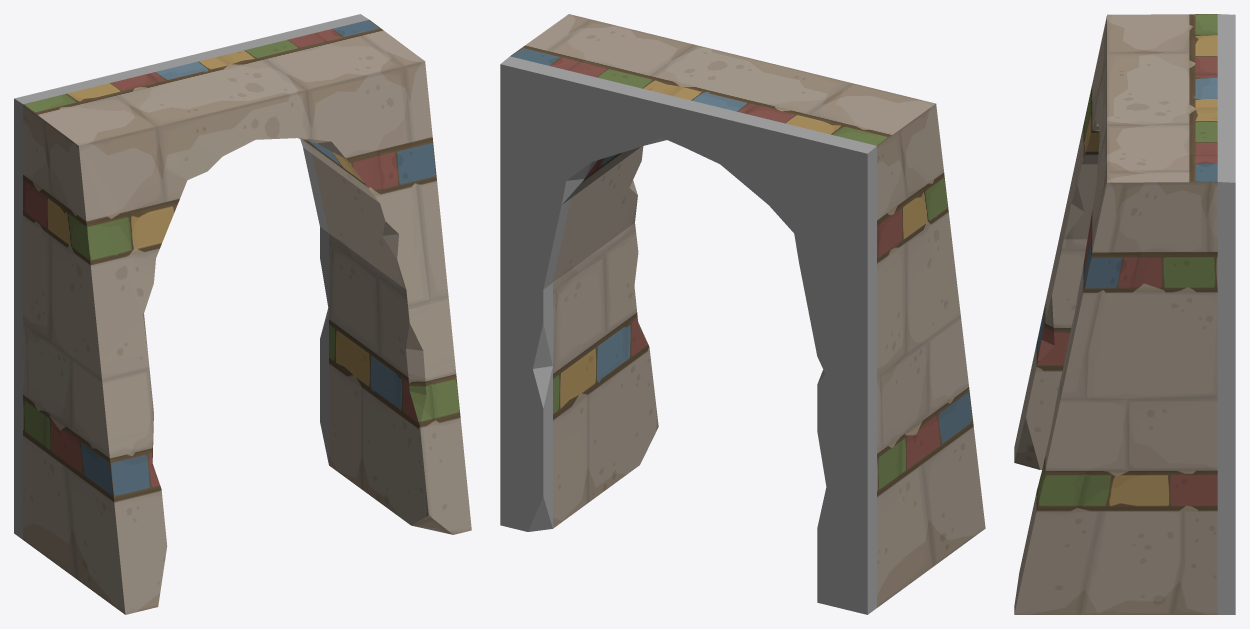
Rendered from SM_Bld_Archway_Temple_Ground_01.fbx.
3 renders of one model, left to right at view 1: azimuth 30°, elevation 25°; view 2: azimuth 150°, elevation 25°; view 3: azimuth 270°, elevation 25°, orthographic. The views are drawn at different scales.
Parts seen in each view (by area): view 1: SM_Bld_Archway_Temple_Ground_01; view 2: SM_Bld_Archway_Temple_Ground_01; view 3: SM_Bld_Archway_Temple_Ground_01.
Boxes of the visible parts, x1,y1,x2,y2 form: SM_Bld_Archway_Temple_Ground_01: (14, 14, 471, 614); SM_Bld_Archway_Temple_Ground_01: (500, 14, 985, 614); SM_Bld_Archway_Temple_Ground_01: (1014, 14, 1235, 614).
Bounding box in the file's own units: 500 × 601 × 278.
